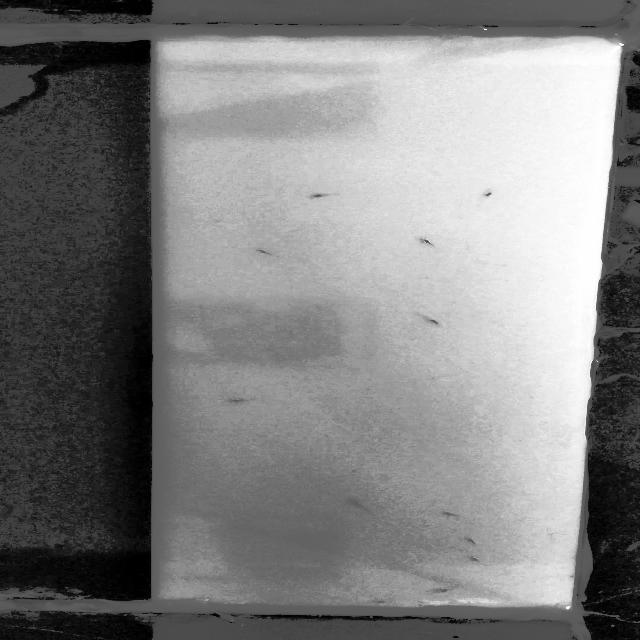shrimp: (410, 309, 455, 325), (297, 187, 342, 200), (219, 394, 257, 408), (412, 234, 443, 250), (348, 499, 375, 513), (253, 244, 279, 258), (458, 536, 487, 547), (434, 584, 458, 594), (441, 510, 465, 520), (463, 554, 489, 563), (477, 190, 501, 198), (374, 599, 389, 608)
